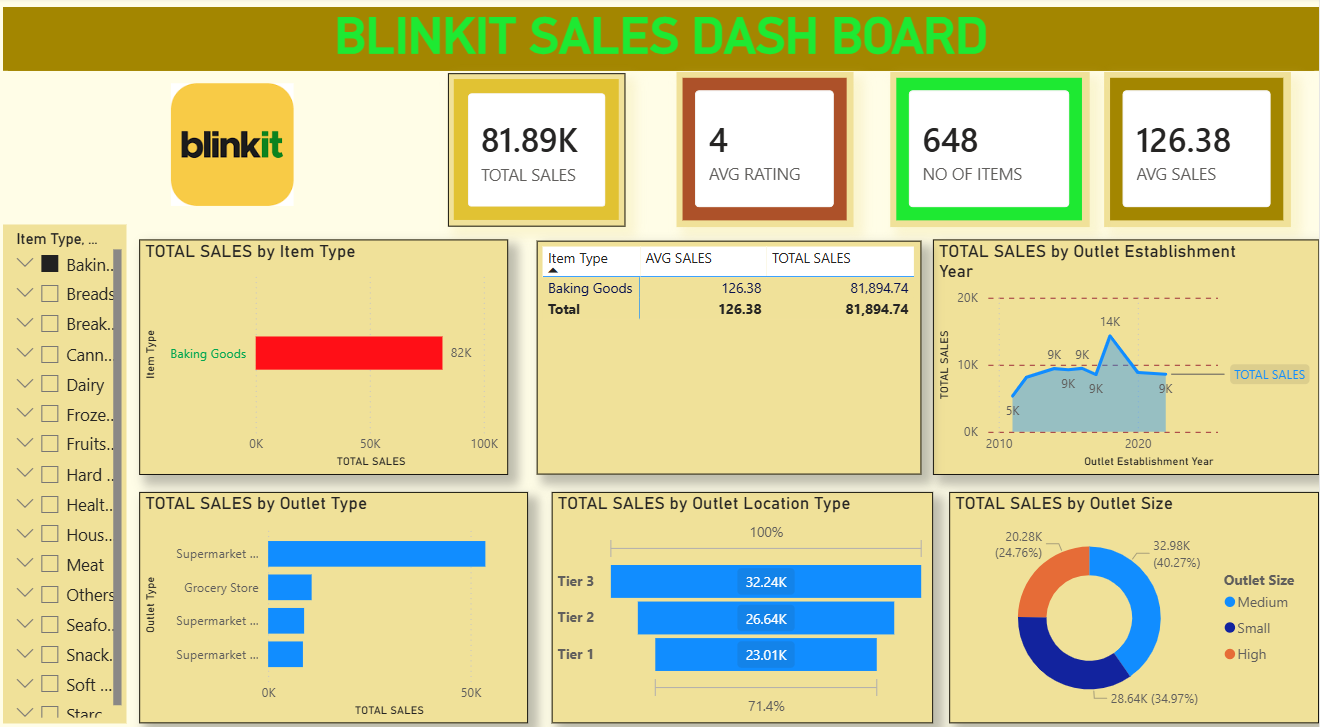

The page's visual inventory and layout, read from the dashboard file:
{"tool":"powerbi","page":{"name":"Page 1","canvas":[1280,720],"ordinal":0},"visuals":[{"type":"textbox","title":" BLINKIT SALES DASH  BOARD","box":[9.7,9.7,1270.4,61.5],"z":0},{"type":"image","box":[22.9,83.2,416.2,118.2],"z":1000},{"type":"cardVisual","fields":{"Data":["BlinkIT Grocery Data.AVG SALES"]},"box":[1072.5,72.4,179.8,149.6],"z":2000},{"type":"cardVisual","fields":{"Data":["BlinkIT Grocery Data.AVG RATING"]},"box":[659.9,72.4,170.1,149.6],"z":3000},{"type":"cardVisual","fields":{"Data":["BlinkIT Grocery Data.NO OF ITEMS"]},"box":[866.2,72.4,191.8,149.6],"z":4000},{"type":"cardVisual","fields":{"Data":["BlinkIT Grocery Data.TOTAL SALES"]},"box":[439.1,73.6,171.3,148.4],"z":5000},{"type":"clusteredBarChart","fields":{"Category":["BlinkIT Grocery Data.Item Type"],"Y":["BlinkIT Grocery Data.TOTAL SALES"]},"box":[141.2,234,355.9,226.8],"z":6000},{"type":"lineChart","fields":{"Category":["BlinkIT Grocery Data.Outlet Establishment Year"],"Y":["BlinkIT Grocery Data.TOTAL SALES"]},"box":[907.2,234,372.8,226.8],"z":7000},{"type":"barChart","fields":{"Category":["BlinkIT Grocery Data.Outlet Type"],"Y":["BlinkIT Grocery Data.TOTAL SALES"]},"box":[141.2,477.8,375.2,223.2],"z":8000},{"type":"funnel","fields":{"Category":["BlinkIT Grocery Data.Outlet Location Type"],"Y":["BlinkIT Grocery Data.TOTAL SALES"]},"box":[539.3,477.8,368,223.2],"z":9000},{"type":"donutChart","fields":{"Category":["BlinkIT Grocery Data.Outlet Size"],"Y":["BlinkIT Grocery Data.TOTAL SALES"]},"box":[922.9,477.8,357.1,223.2],"z":10000},{"type":"slicer","fields":{"Values":["BlinkIT Grocery Data.Item Type","BlinkIT Grocery Data.Outlet Location Type"]},"box":[9.7,219.6,119.4,481.4],"z":11000},{"type":"pivotTable","fields":{"Rows":["BlinkIT Grocery Data.Item Type"],"Values":["BlinkIT Grocery Data.AVG SALES","BlinkIT Grocery Data.TOTAL SALES"]},"box":[524.8,235.3,371.6,225.6],"z":12000}]}

Visuals, with their boxes in screenshot pixels (x1, y1, x2, y2), scaled from the page's 1280x720 canvas onto the 1320x727 screenshot:
" BLINKIT SALES DASH  BOARD" textbox: 10/10/1319/72
image: 24/84/453/203
cardVisual - BlinkIT Grocery Data.AVG SALES: 1106/73/1291/224
cardVisual - BlinkIT Grocery Data.AVG RATING: 681/73/856/224
cardVisual - BlinkIT Grocery Data.NO OF ITEMS: 893/73/1091/224
cardVisual - BlinkIT Grocery Data.TOTAL SALES: 453/74/629/224
clusteredBarChart - BlinkIT Grocery Data.Item Type x BlinkIT Grocery Data.TOTAL SALES: 146/236/513/465
lineChart - BlinkIT Grocery Data.Outlet Establishment Year x BlinkIT Grocery Data.TOTAL SALES: 936/236/1319/465
barChart - BlinkIT Grocery Data.Outlet Type x BlinkIT Grocery Data.TOTAL SALES: 146/482/533/708
funnel - BlinkIT Grocery Data.Outlet Location Type x BlinkIT Grocery Data.TOTAL SALES: 556/482/936/708
donutChart - BlinkIT Grocery Data.Outlet Size x BlinkIT Grocery Data.TOTAL SALES: 952/482/1319/708
slicer - BlinkIT Grocery Data.Item Type x BlinkIT Grocery Data.Outlet Location Type: 10/222/133/708
pivotTable - BlinkIT Grocery Data.Item Type x BlinkIT Grocery Data.AVG SALES: 541/238/924/465
